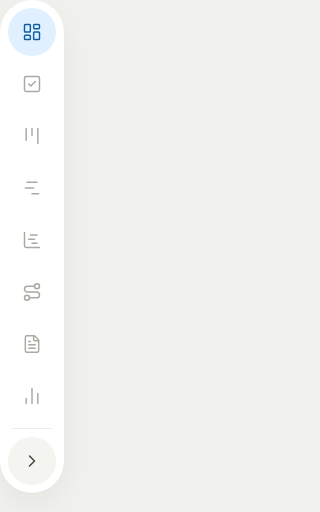
Scenario: FloatingRail › toggles expanded state with aria-expanded, aria-controls and visible labels (contexts with a flat rail)
This screenshot has width=320, height=512.
Click the button named "Expand navigation". click: (32, 461)
box: [8,437,56,485]
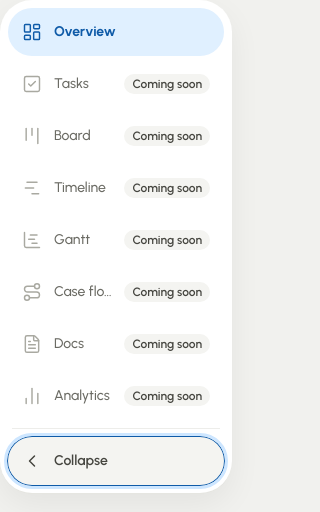
Now the button with aria-label "Collapse navigation" is expanded, box [8,437,224,485]
Now the 1st text "Coming soon" is shown, box [124,74,210,94]
Press Enter
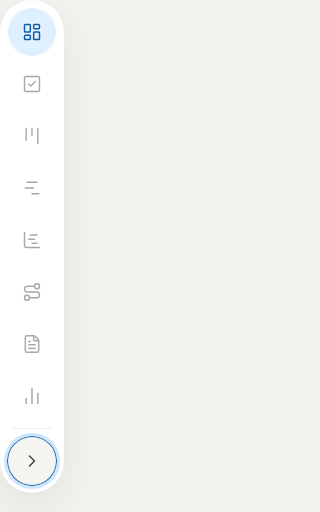
Now the button named "Collapse navigation" is collapsed, box [8,437,56,485]
